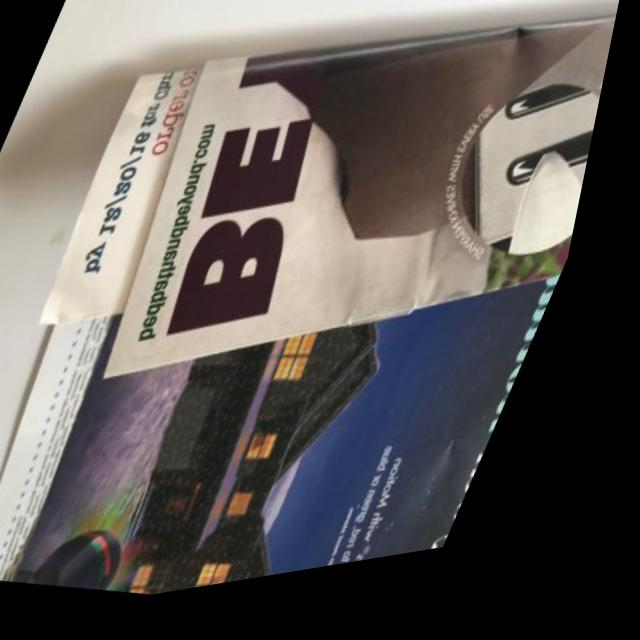paper: (0, 0, 640, 637)
